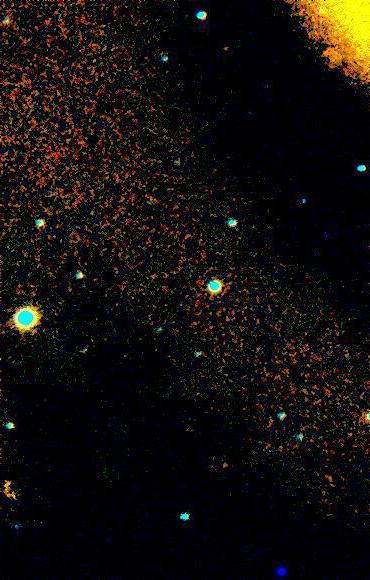star: (210, 34, 240, 64)
